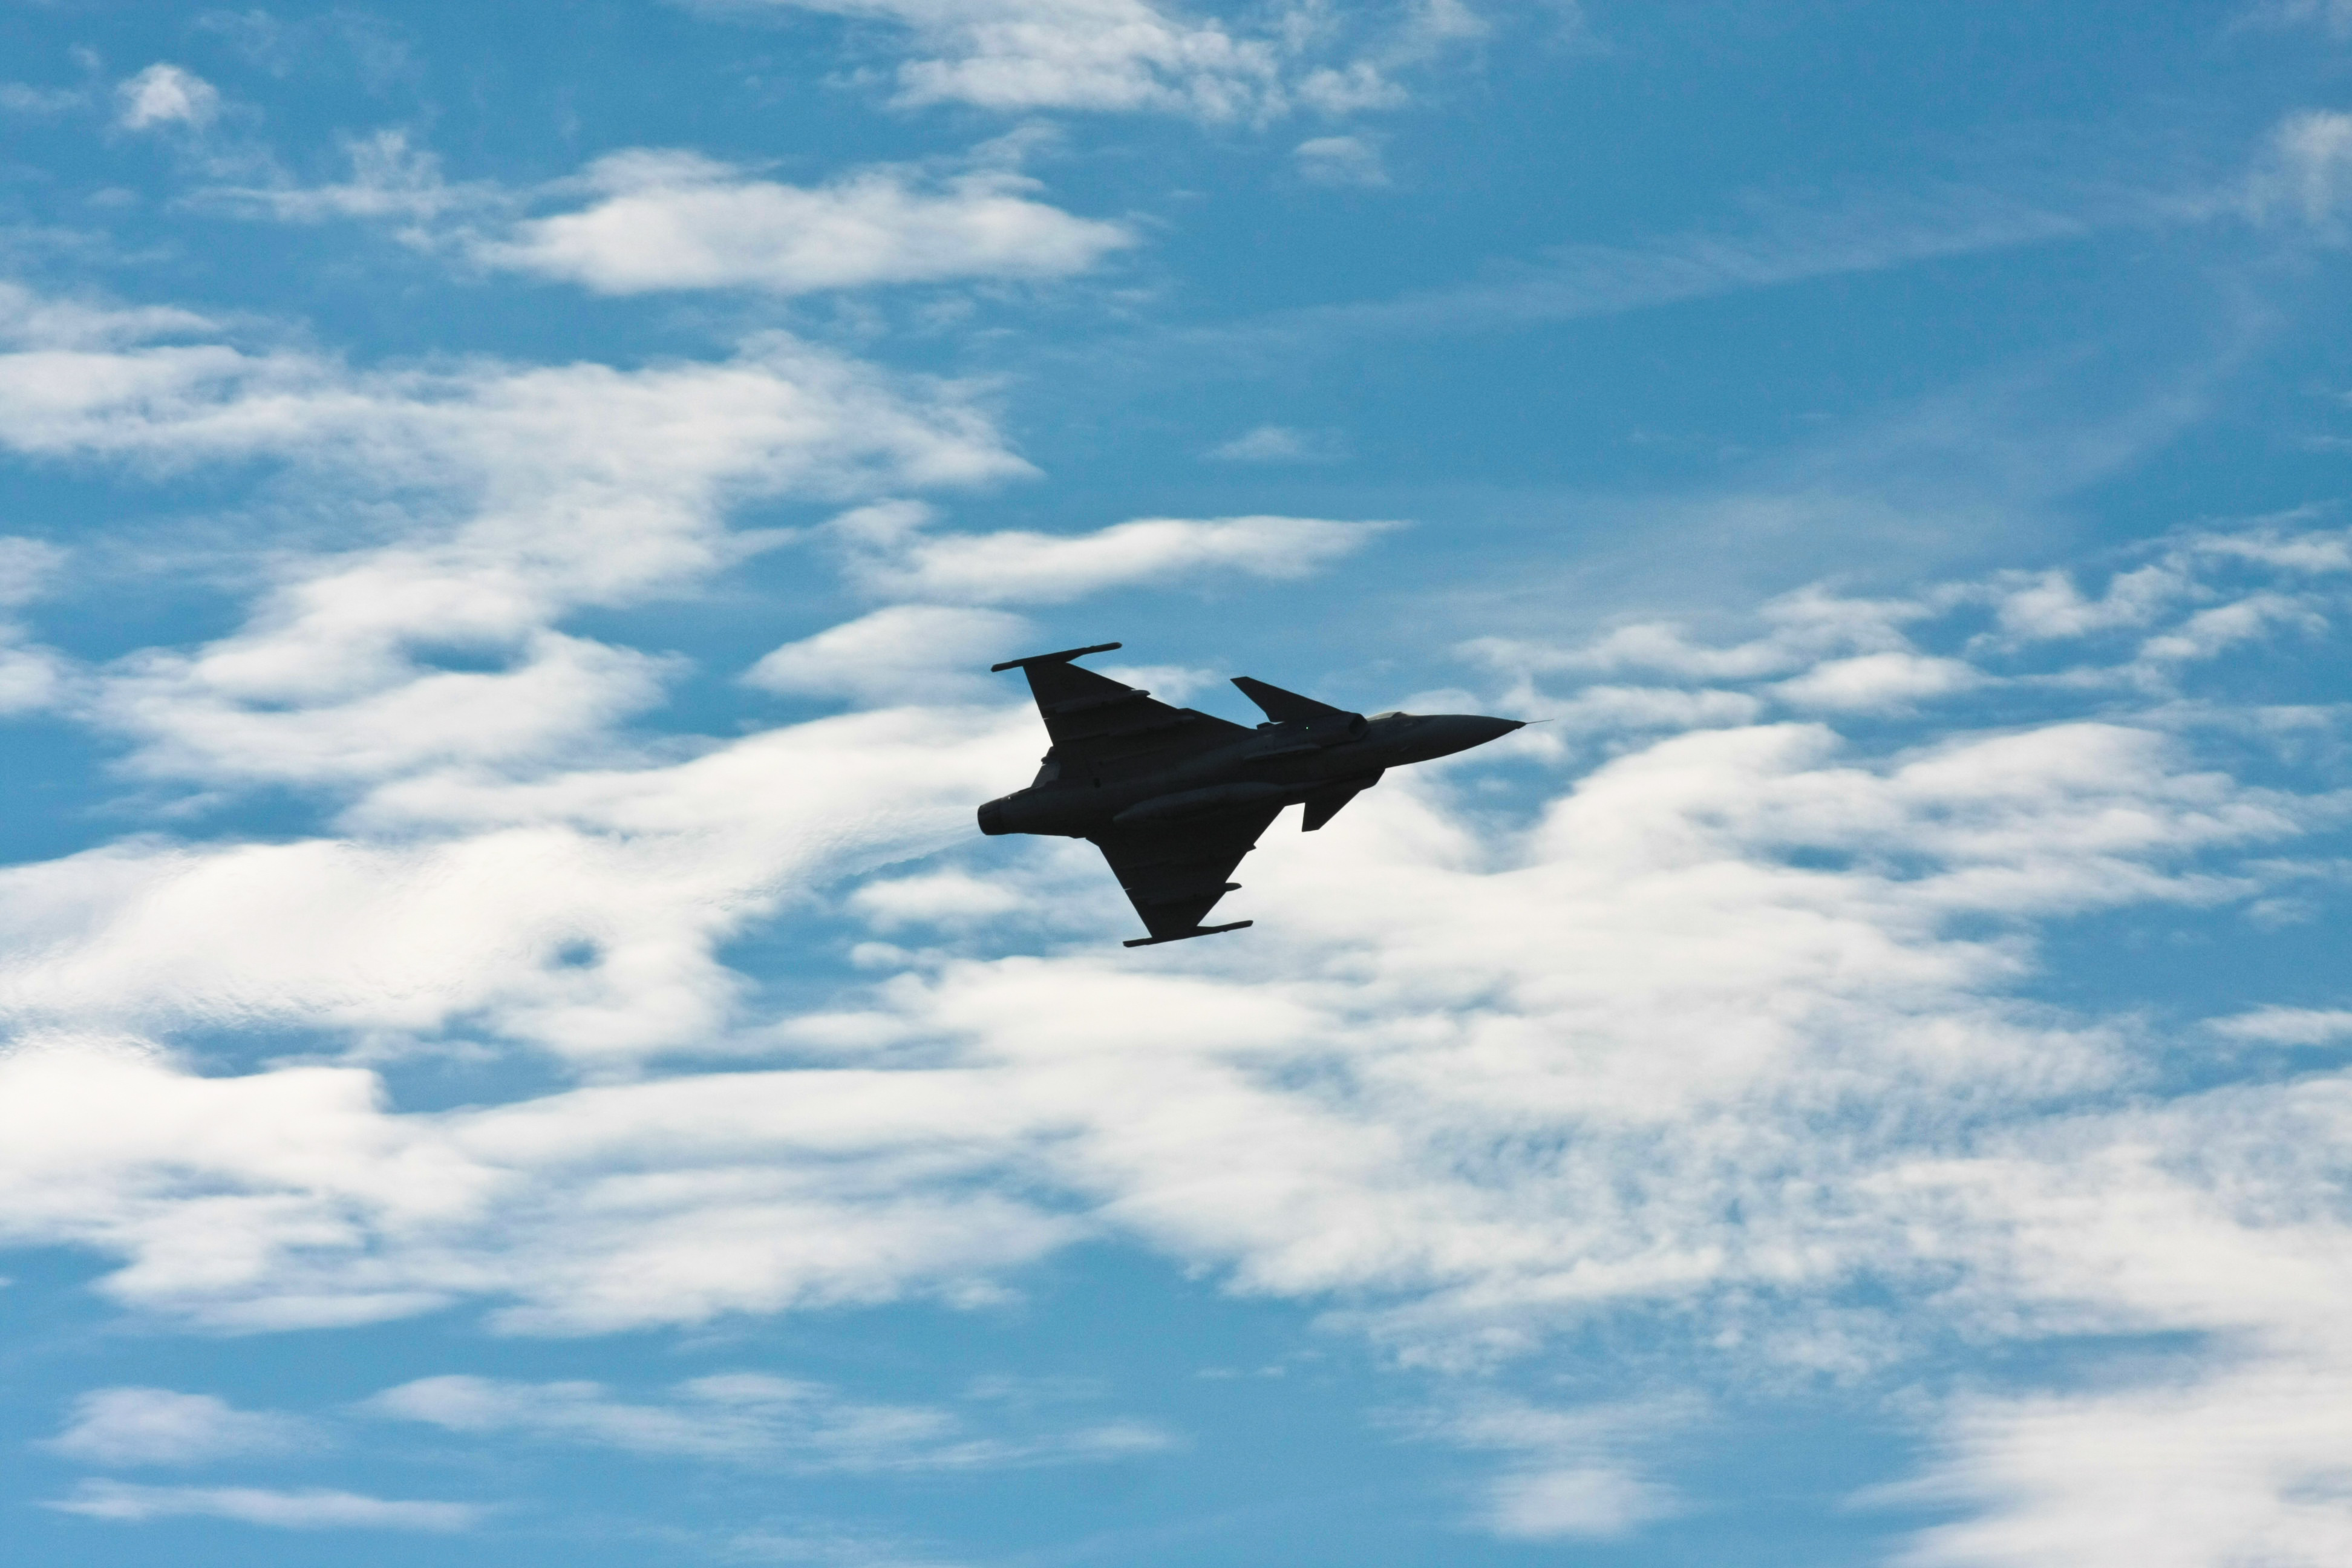JAS39: (977, 640, 1554, 948)
